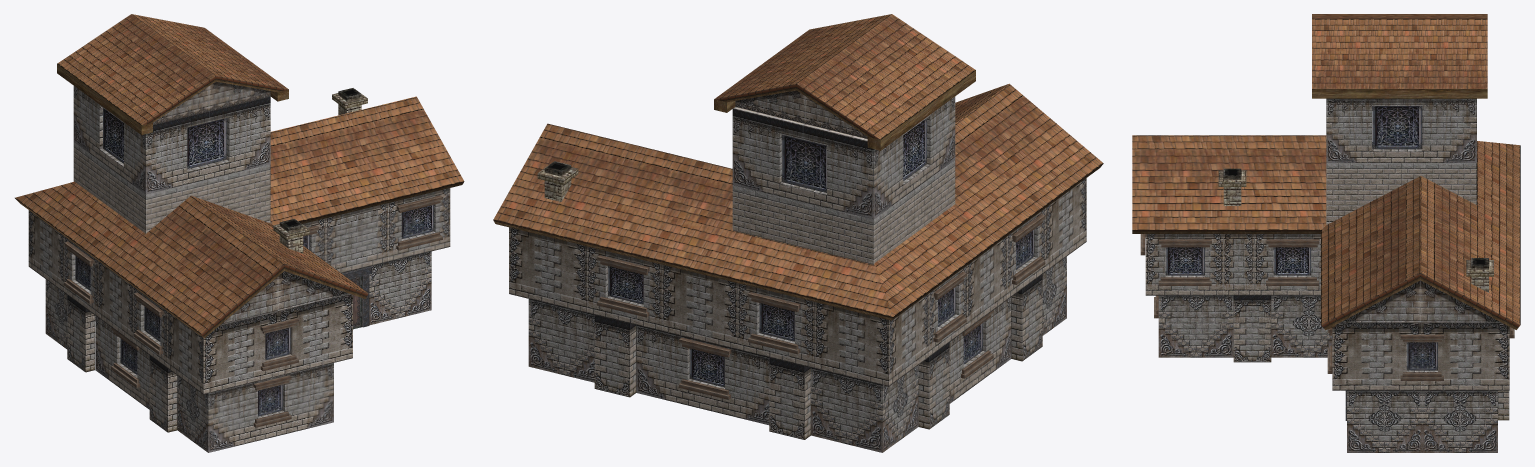
The model's file is rd_meria.glb.
3 views of the same model, side by side, from view 1: azimuth 30°, elevation 25°; view 2: azimuth 150°, elevation 25°; view 3: azimuth 270°, elevation 25° (orthographic). The views are drawn at different scales.
Visible parts, largest first — view 1: rd_meria; view 2: rd_meria; view 3: rd_meria.
Part boxes in pixels (left/top/right/bottom): rd_meria: left=15, top=14, right=464, bottom=452; rd_meria: left=493, top=14, right=1103, bottom=452; rd_meria: left=1132, top=14, right=1520, bottom=452.
Size of the model in its own units: 14.87 by 12.18 by 13.56.
13 materials, 13 textured.
